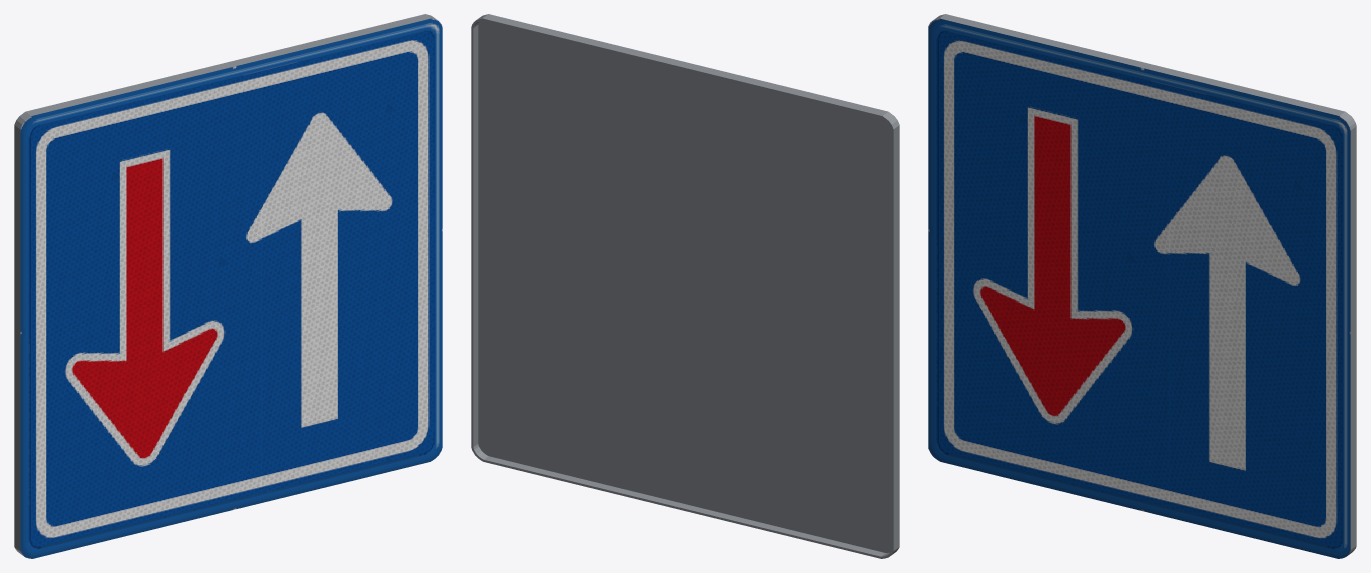
3 views of the same model, side by side, from view 1: azimuth 30°, elevation 25°; view 2: azimuth 150°, elevation 25°; view 3: azimuth 330°, elevation 25° (orthographic).
Visible parts, largest first — view 1: cat_0f65786cc2c8f972; view 2: cat_0f65786cc2c8f972; view 3: cat_0f65786cc2c8f972.
Boxes of the visible parts, <box> form: cat_0f65786cc2c8f972: <box>14,14,442,558</box>; cat_0f65786cc2c8f972: <box>471,14,899,558</box>; cat_0f65786cc2c8f972: <box>928,14,1356,558</box>.
Bounding box in the file's own units: 0.6 × 0.015 × 0.6014.
Materials: 2 (1 with a texture image).
